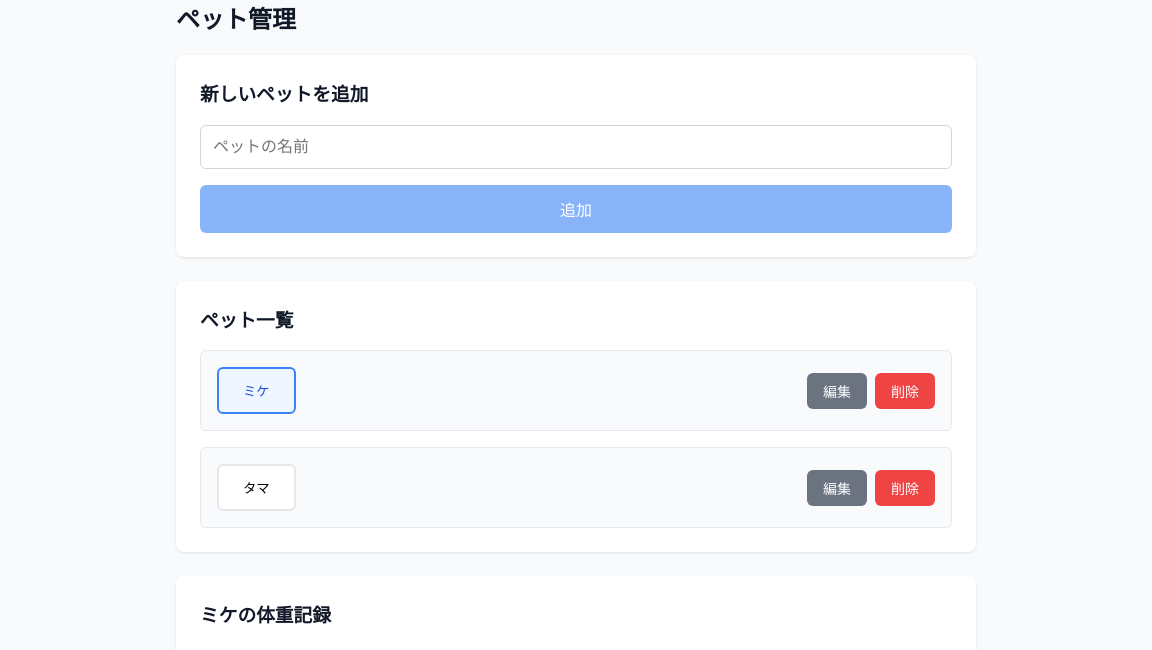
Test: PetManagement › Pet Editing › should update pet name successfully
The width and height of the screenshot is (1152, 650).
Expected: the button "ミケ" is shown, [217, 367, 296, 414]
Click the 1st button "編集": (837, 391) [807, 373, 867, 409]
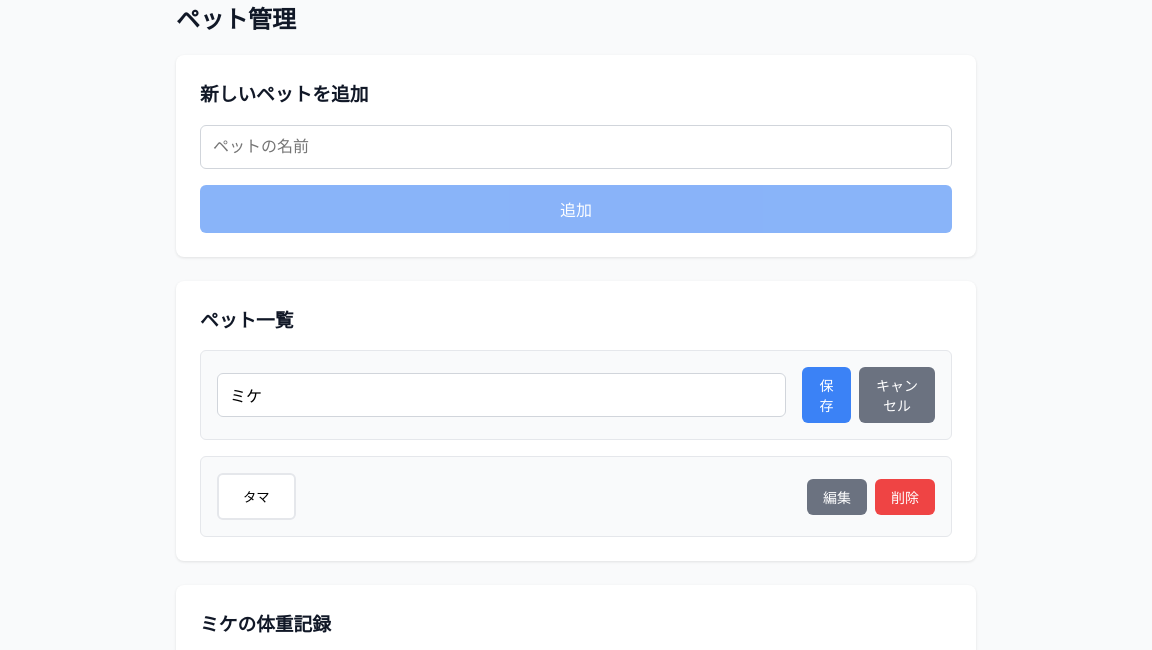
Expected: the button "保存" is shown, [802, 367, 851, 423]
Replace the text in the field with placeholder "ペット名" with "ミケちゃん": (501, 395) [217, 373, 786, 417]
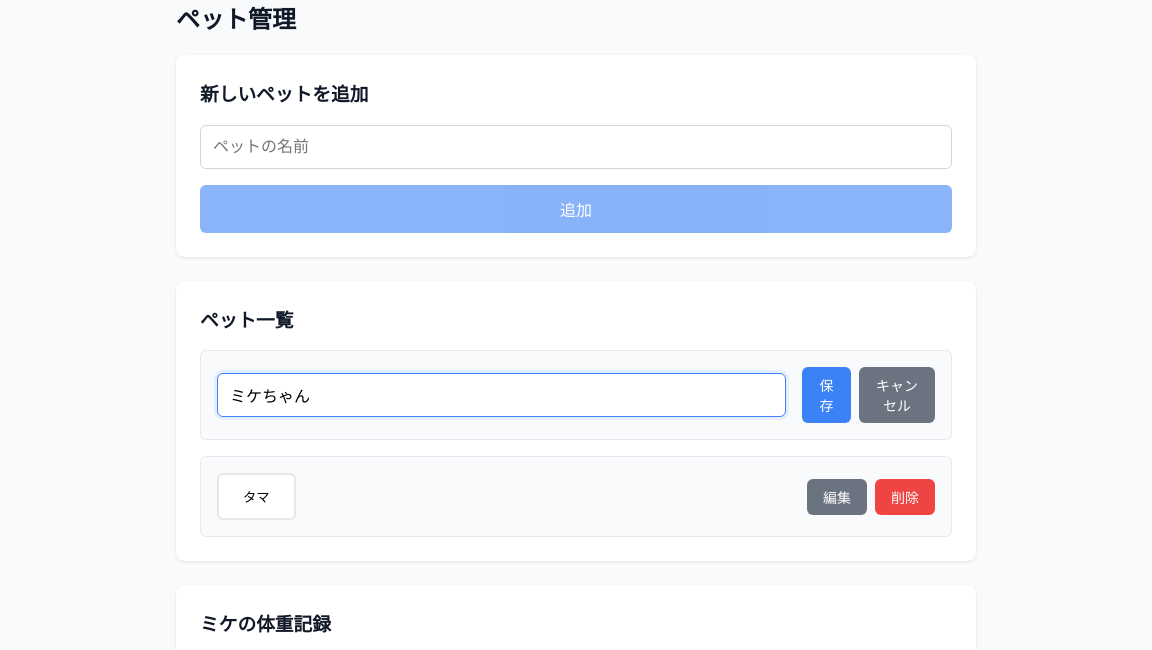
Click the button "保存": (826, 395) [802, 367, 851, 423]
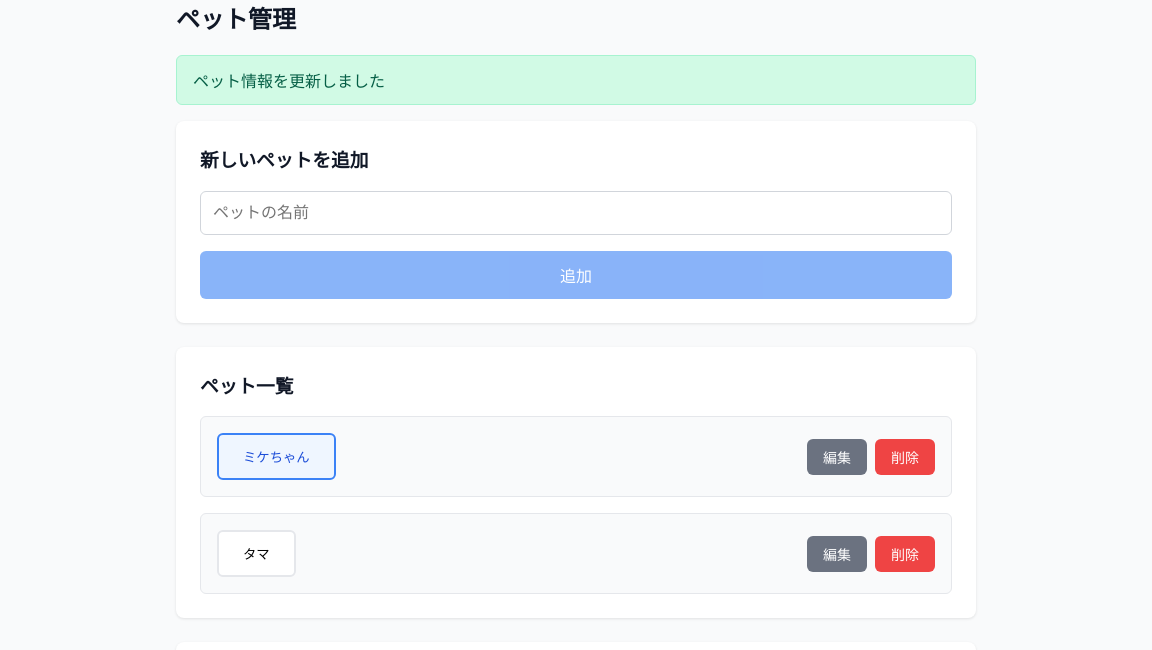
Expected: the text "ペット情報を更新しました" is shown, [176, 55, 976, 105]
